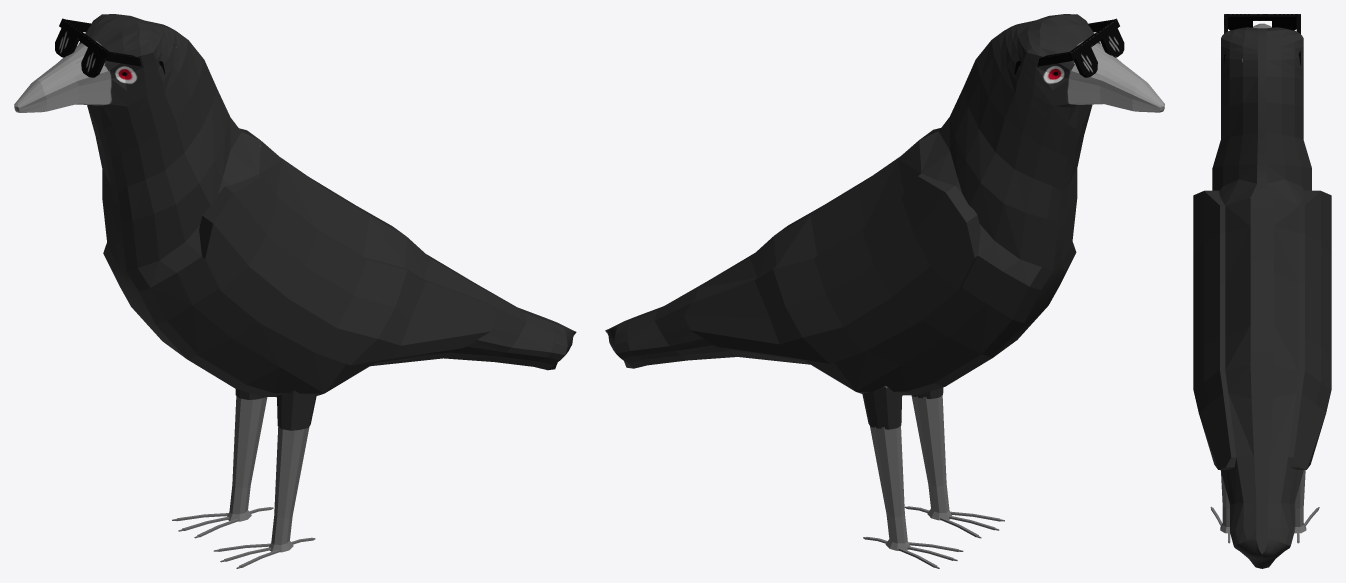
Rendered from crowvariant2.fbx.
3 views of the same model, side by side, from view 1: azimuth 30°, elevation 25°; view 2: azimuth 150°, elevation 25°; view 3: azimuth 270°, elevation 25° (orthographic). The views are drawn at different scales.
Visible parts, largest first — view 1: Plane017, Plane019, Plane018, Box076; view 2: Plane017, Plane019, Plane018, Box076; view 3: Plane017, Plane019, Plane018, Box076.
Part boxes in pixels (x1,y1,x2,y2): Plane017: (14,14,576,397); Plane019: (199,174,496,365); Plane018: (172,389,316,568); Box076: (55,18,165,77); Plane017: (605,14,1164,395); Plane019: (684,173,980,363); Plane018: (862,385,1004,568); Box076: (1014,18,1124,77); Plane017: (1212,23,1311,568); Plane019: (1193,190,1331,469); Plane018: (1210,470,1319,543); Box076: (1224,14,1300,65).
Bounding box in the file's own units: 15.6 × 14.41 × 4.03.
